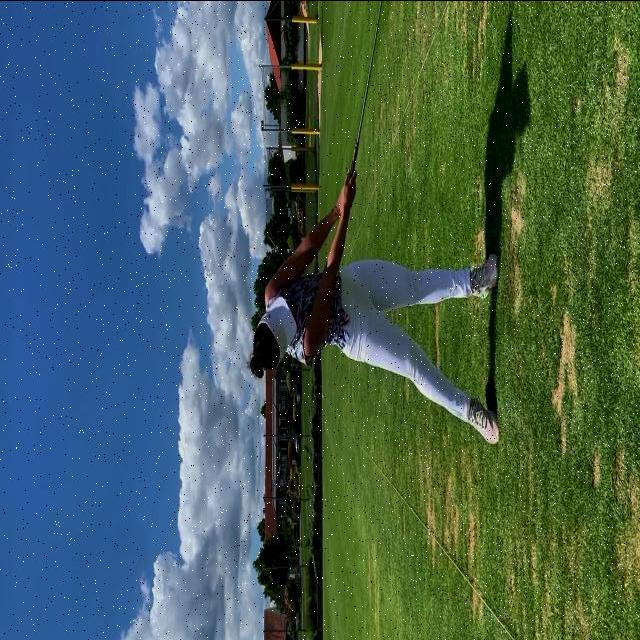ClubHandle: (348, 0, 390, 190)
